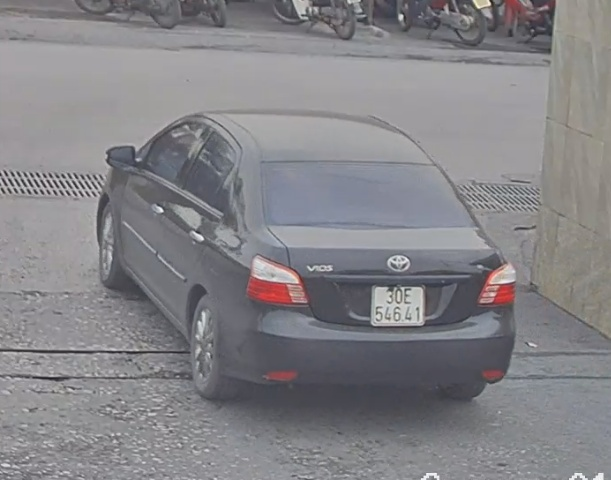vehicle plate: (372, 277, 422, 328)
